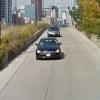Car: (34, 24, 65, 66)
